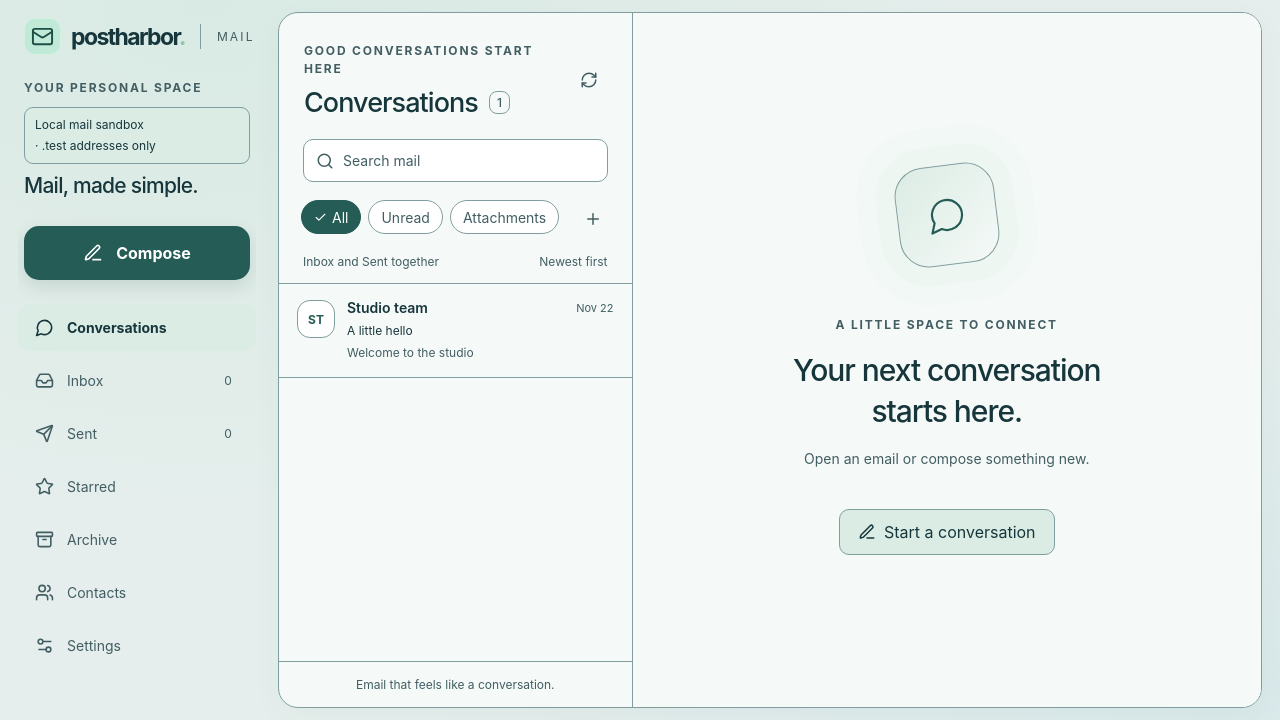
Scenario: mailbox experience › never restores a delayed private message after signing out
Click the button "ST Studio team Nov 22 A little hello Welcome to the studio": (316, 319) x1=279 y1=284 x2=632 y2=378
(page scrolled)
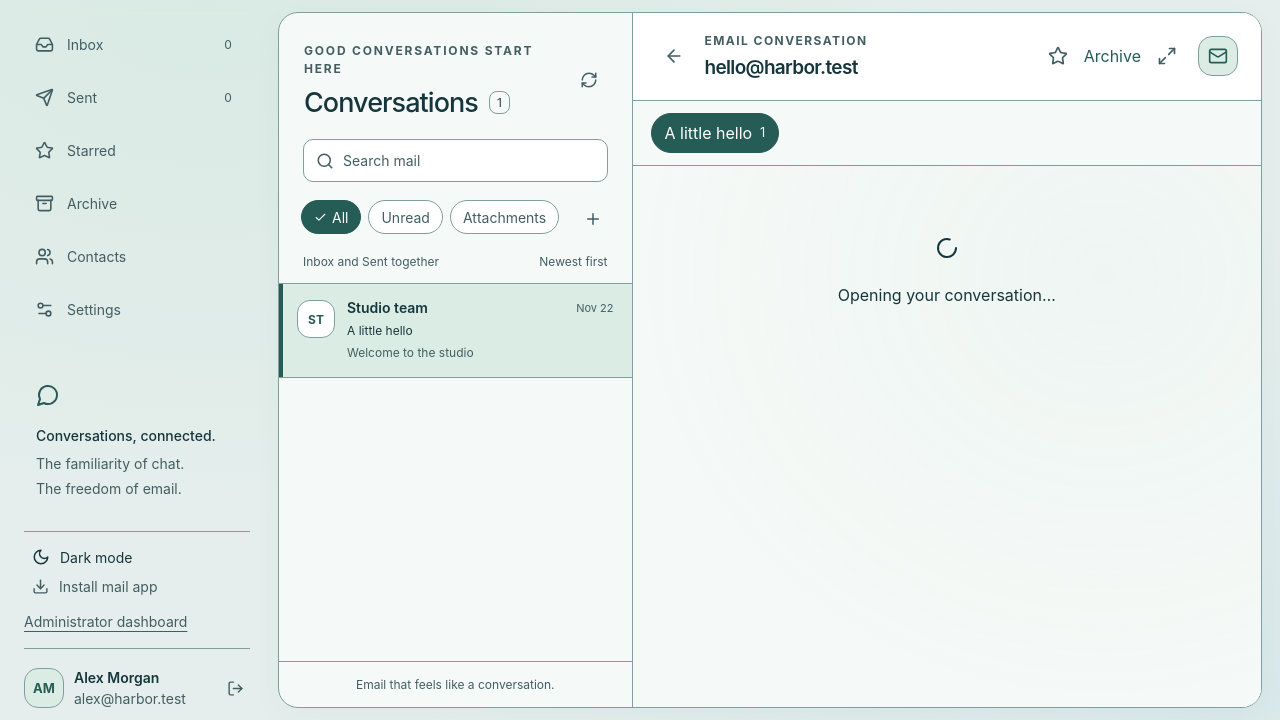
Result: the text "Opening your conversation…" is shown at x1=838 y1=285 x2=1056 y2=305
Click the button named "Sign out of mailbox": (236, 688) x1=221 y1=670 x2=250 y2=706
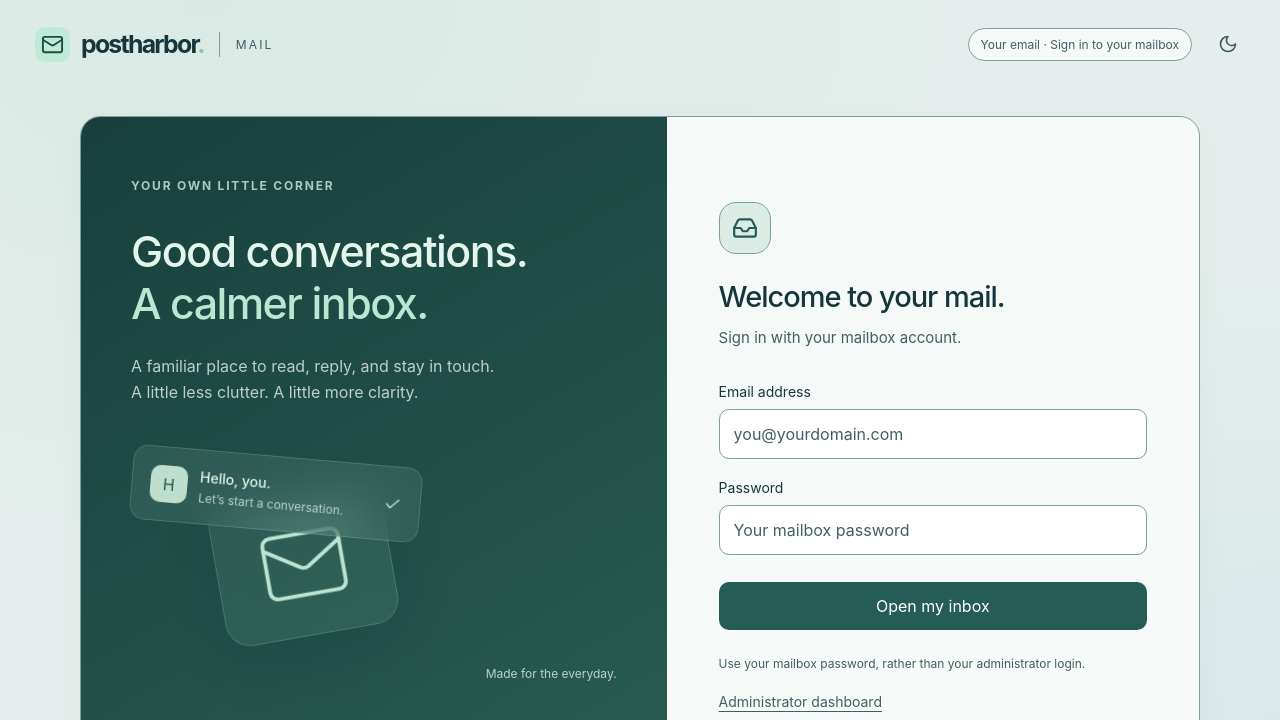
Result: the heading "Welcome to your mail." is shown at x1=719 y1=279 x2=1004 y2=314
